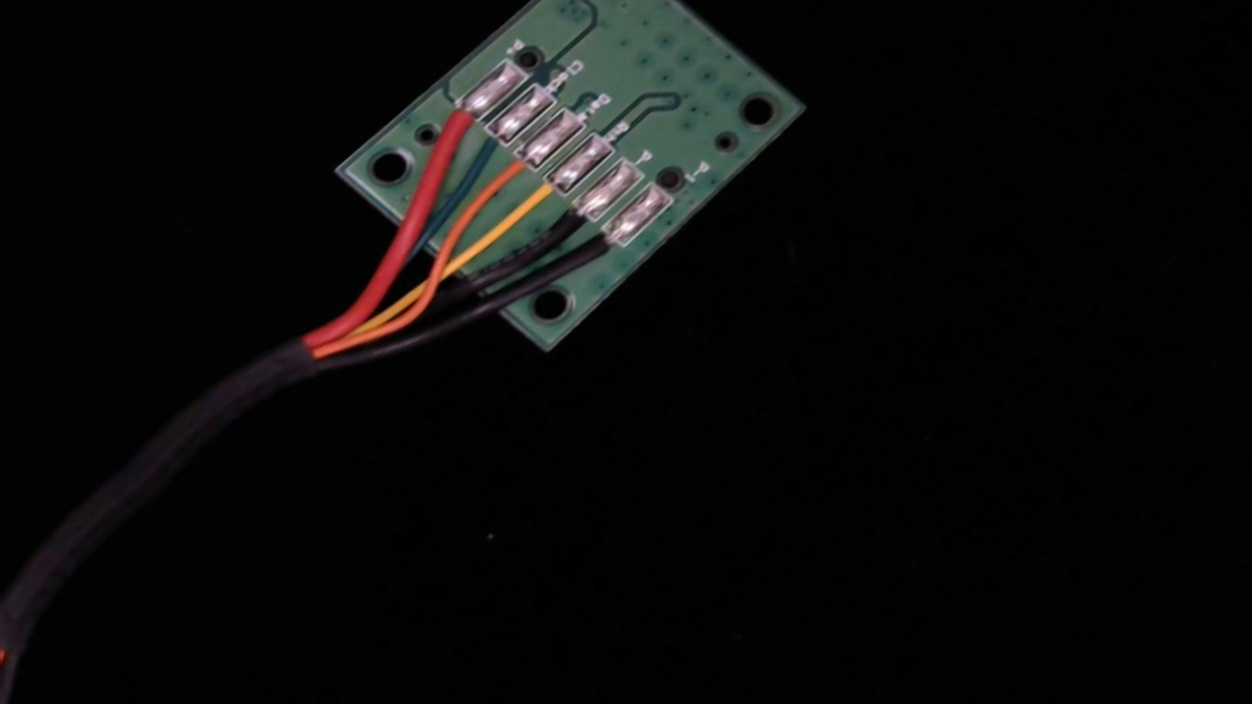Black: (531, 189, 611, 259)
Black1: (554, 211, 642, 288)
Green: (448, 115, 526, 180)
Orange: (473, 140, 548, 204)
Red: (418, 93, 494, 154)
Yellow: (502, 164, 582, 232)
